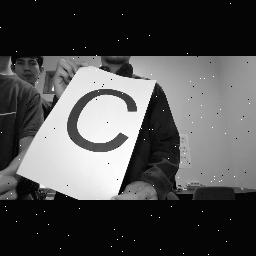c: (64, 78, 142, 172)
